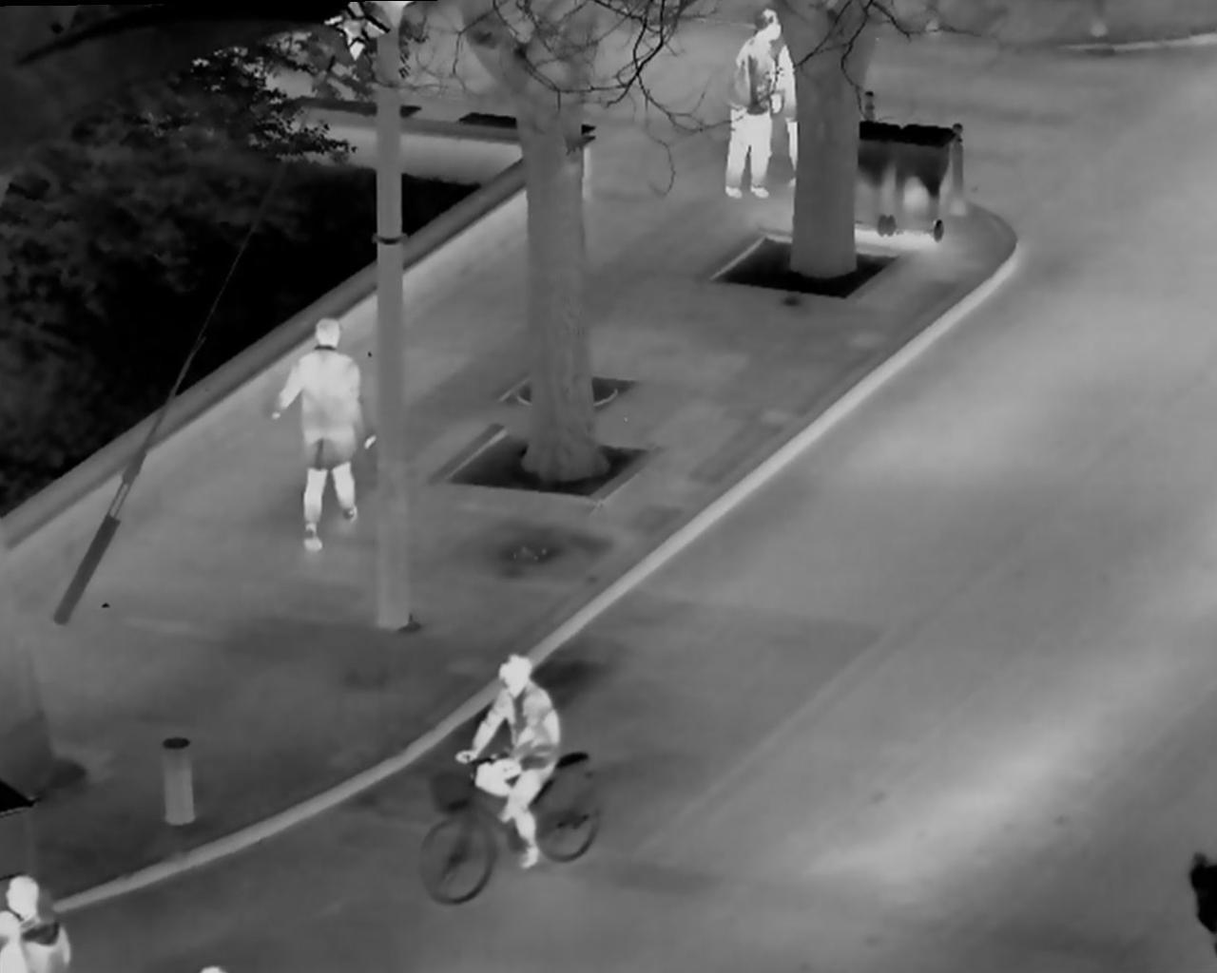person: (446, 634, 570, 891), (275, 309, 381, 556), (721, 6, 786, 208)
